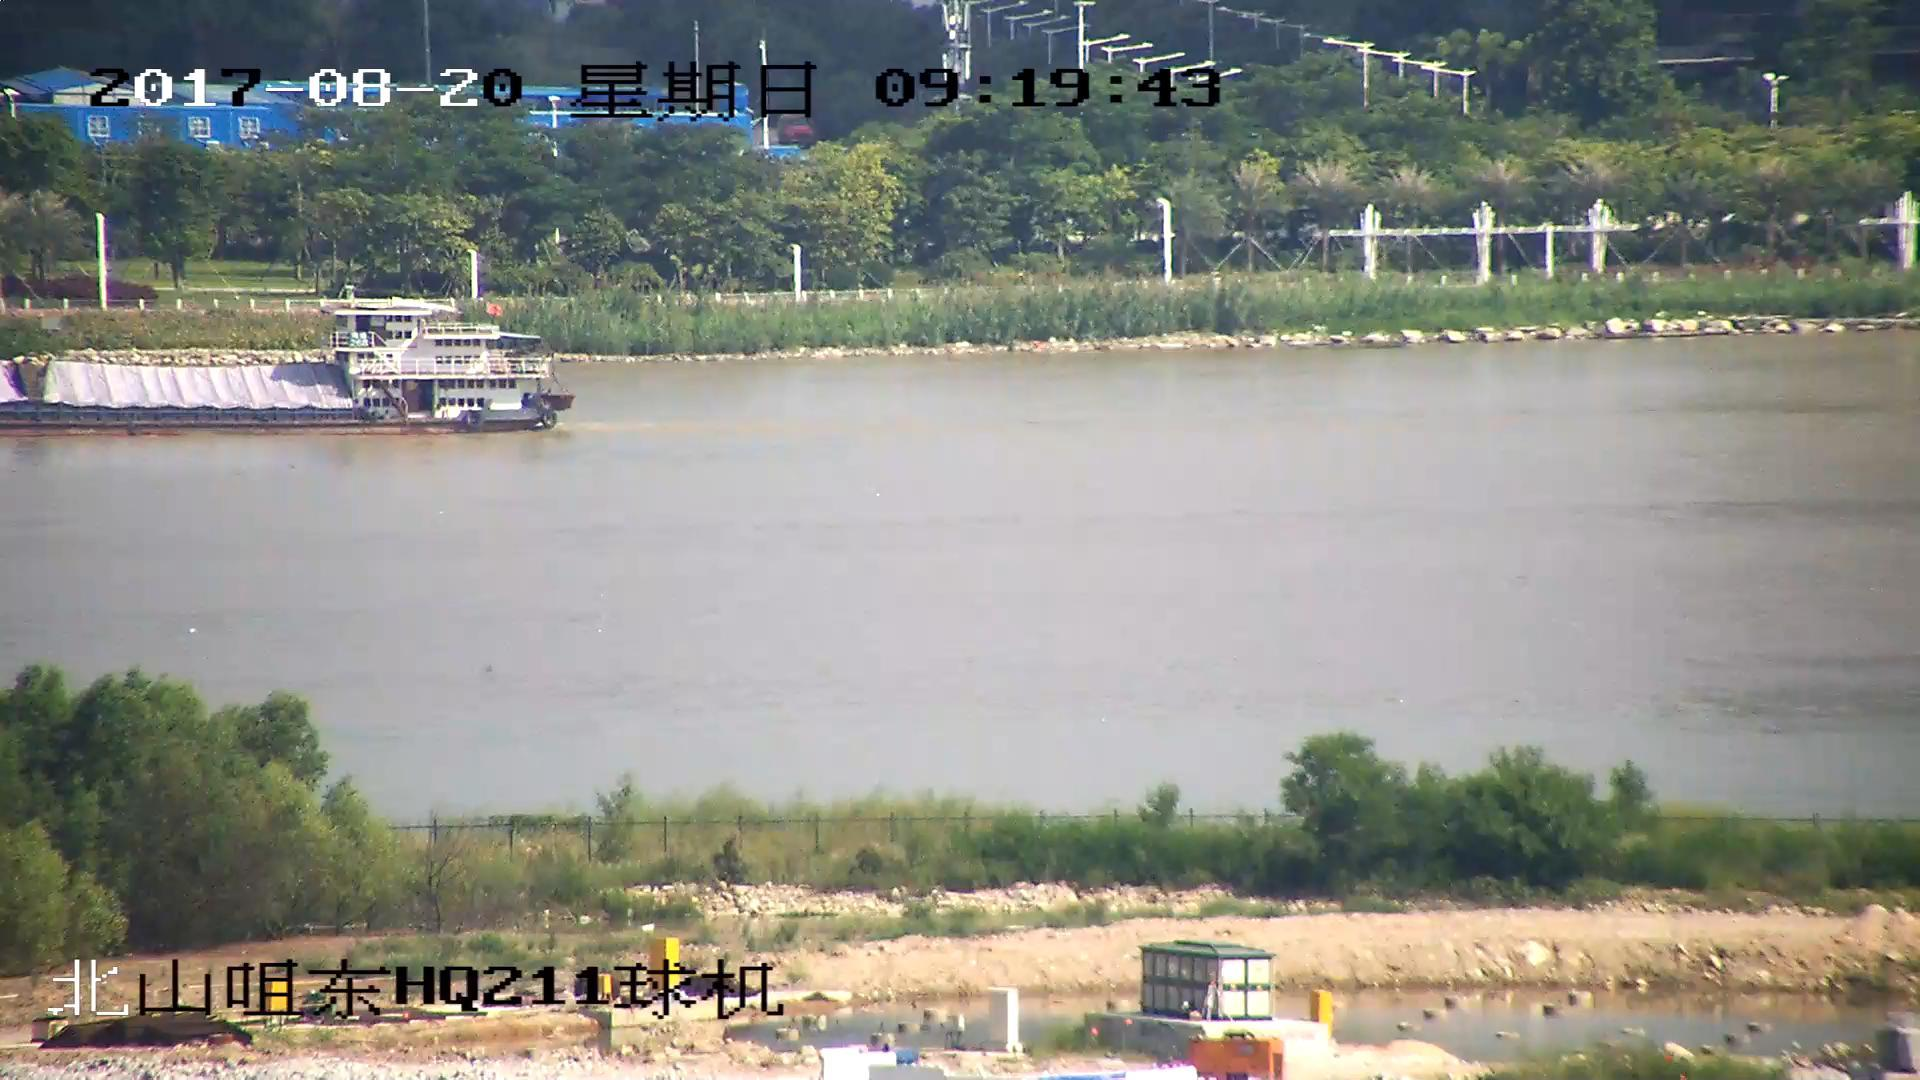Ship: (3, 303, 572, 435)
